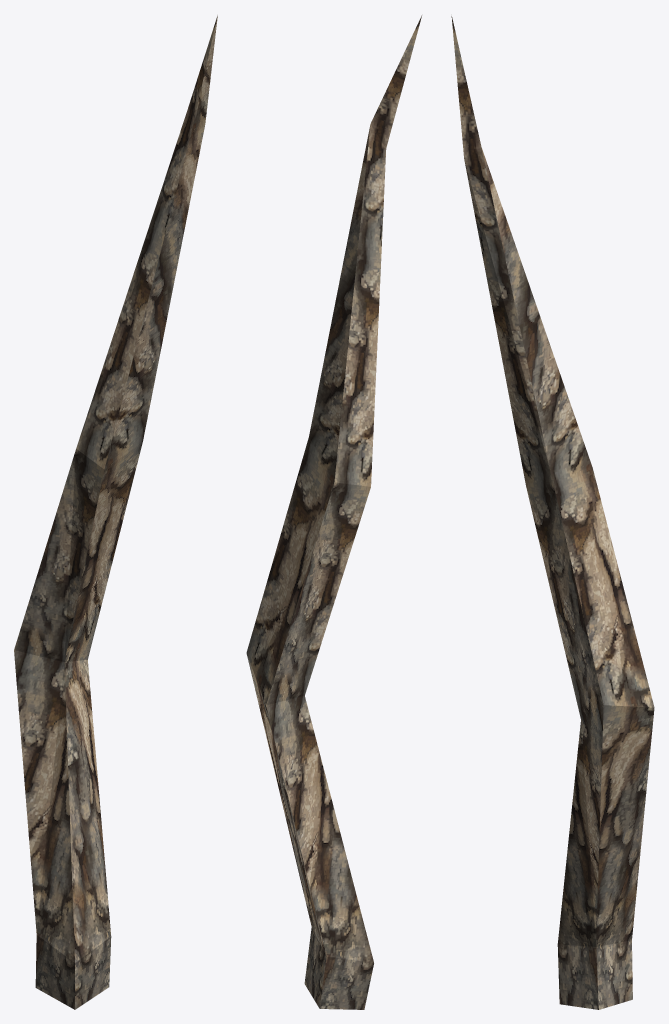
The model's file is Island_2_LitTree.gltf.
The picture shows the model from 3 angles, left to right: view 1: azimuth 90°, elevation 25°; view 2: azimuth 150°, elevation 25°; view 3: azimuth 270°, elevation 25°; orthographic projection. The views are drawn at different scales.
Visible parts, largest first — view 1: Island_2_LitTree; view 2: Island_2_LitTree; view 3: Island_2_LitTree.
Part boxes in pixels (bbox=[...]): Island_2_LitTree: bbox=[14, 15, 217, 1009]; Island_2_LitTree: bbox=[246, 15, 421, 1009]; Island_2_LitTree: bbox=[451, 16, 654, 1009].
Bounding box in the file's own units: 1.93 × 14.18 × 2.65.
Materials: 1 (1 with a texture image).
